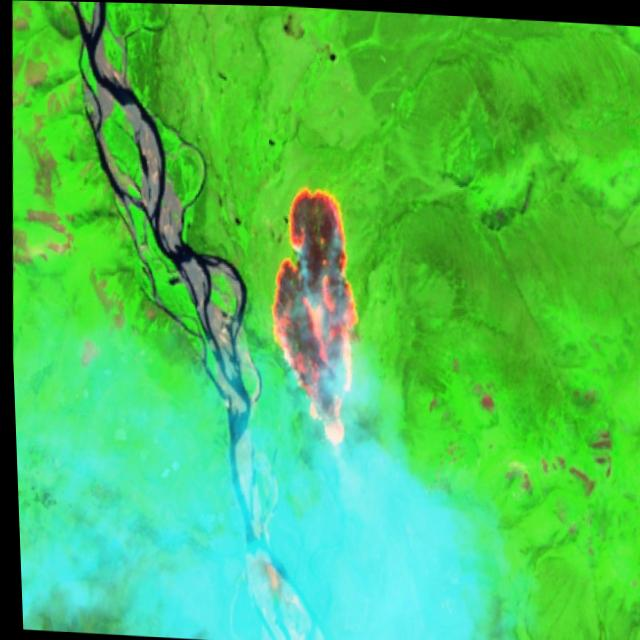fire: (256, 171, 369, 451)
